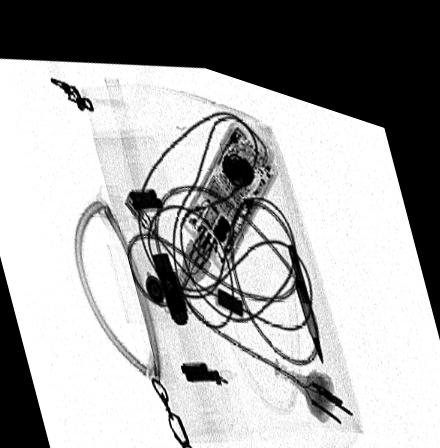Bullet: (292, 261, 323, 348)
